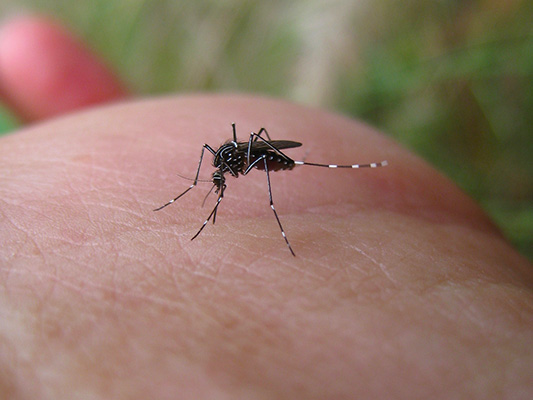dengue_mosquito: (154, 122, 369, 256)
